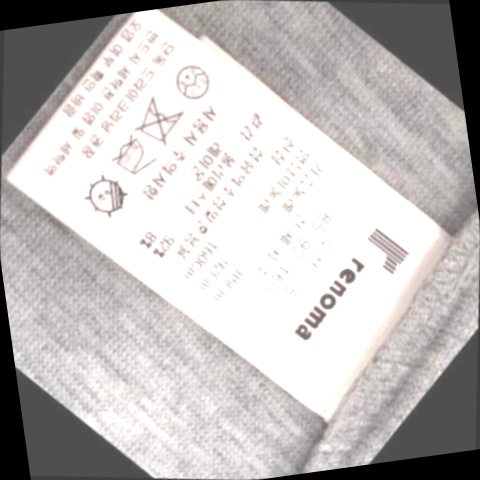DN_wash: (129, 90, 197, 152)
dry_clean_petrol_only: (167, 54, 222, 107)
iron_low: (102, 130, 163, 186)
line_dry_in_shade: (77, 168, 142, 226)
